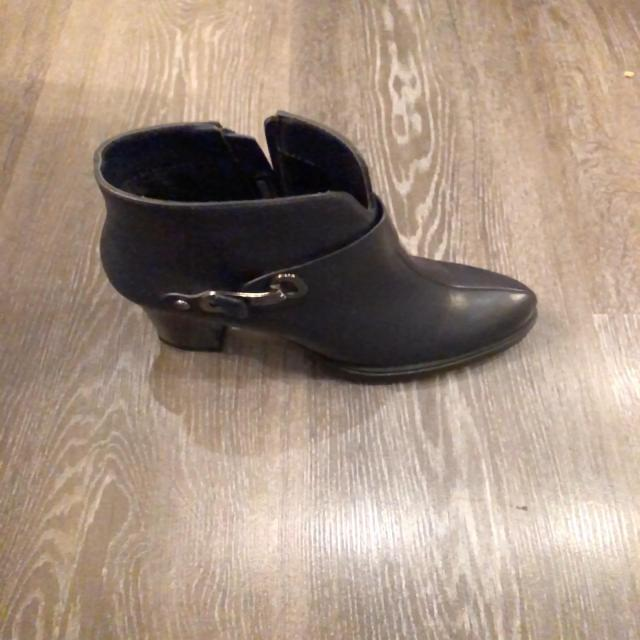shoe: (92, 113, 540, 385)
